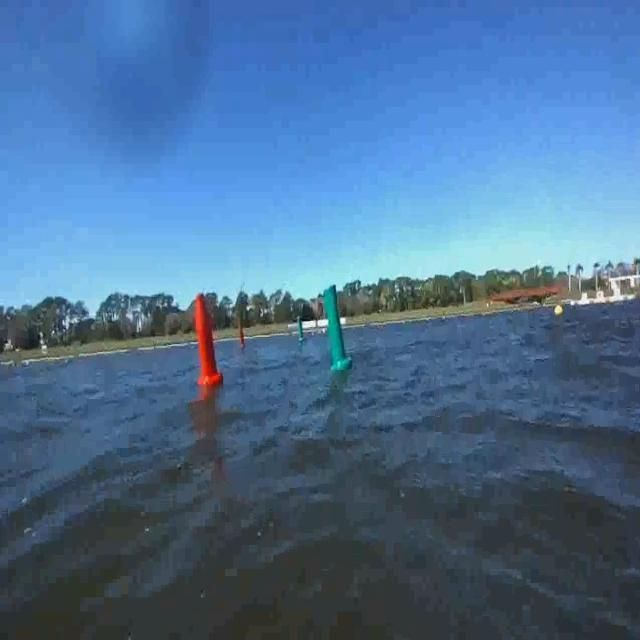green-column-buoy: (321, 286, 352, 373), (296, 319, 305, 342)
red-column-buoy: (192, 293, 224, 387), (239, 325, 247, 347)
yellow-buoy: (555, 304, 565, 319)
